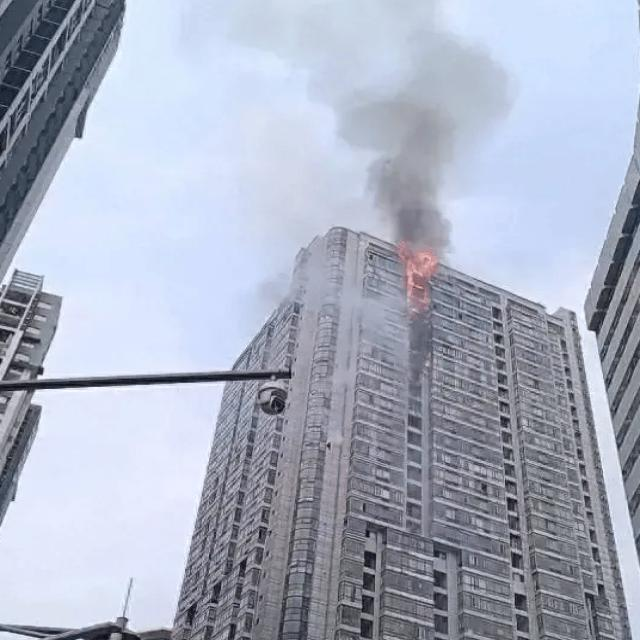Fire: (402, 247, 437, 306)
Smoke: (336, 50, 512, 244)
